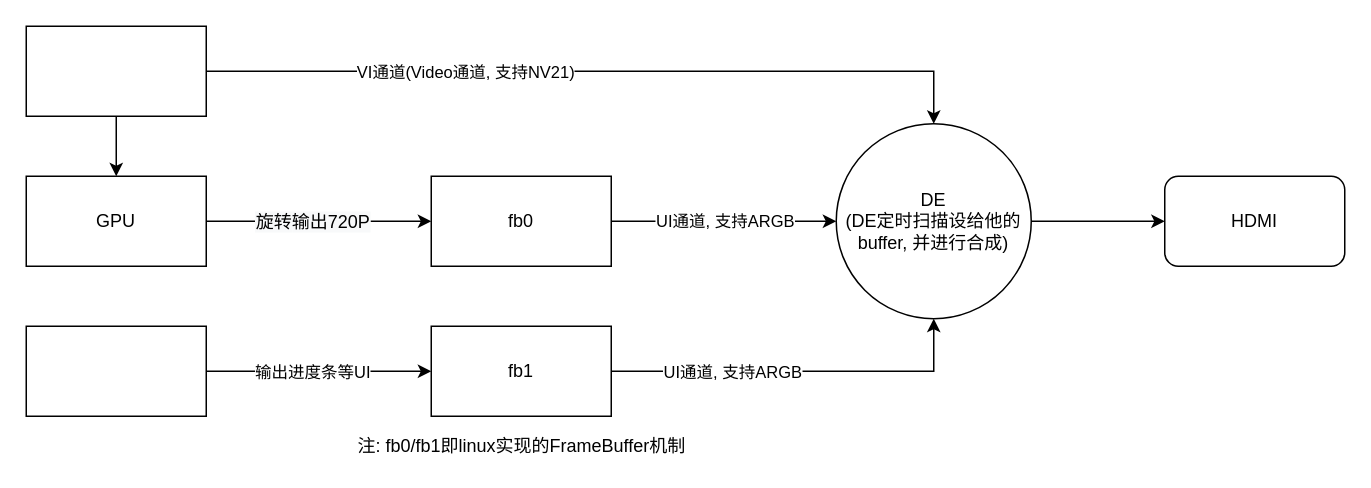
Some shapes in this 1371 by 488 pixel diagram are drawn without their labels. The shapes that lost their labels are listed below. From the top down, each one's centre as x and y in pixels, then its label:
pixel 115 70: 多媒体申请的Buffer
pixel 115 370: minigui
